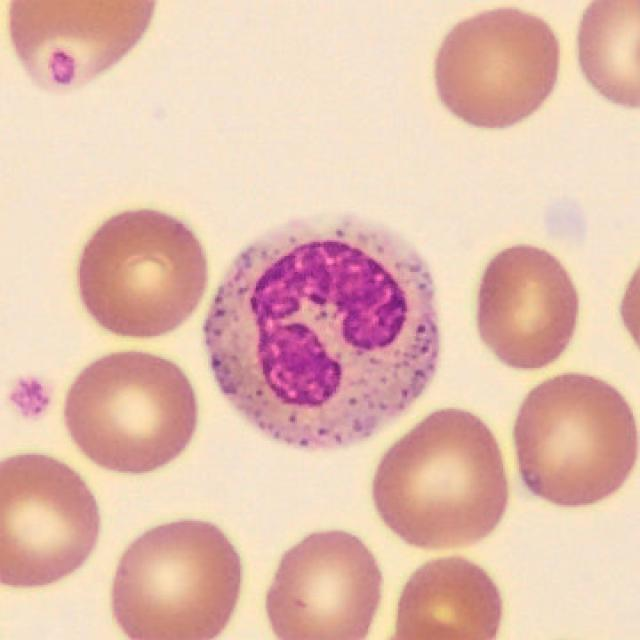Neutrofilo segmentado: (203, 212, 441, 452)
